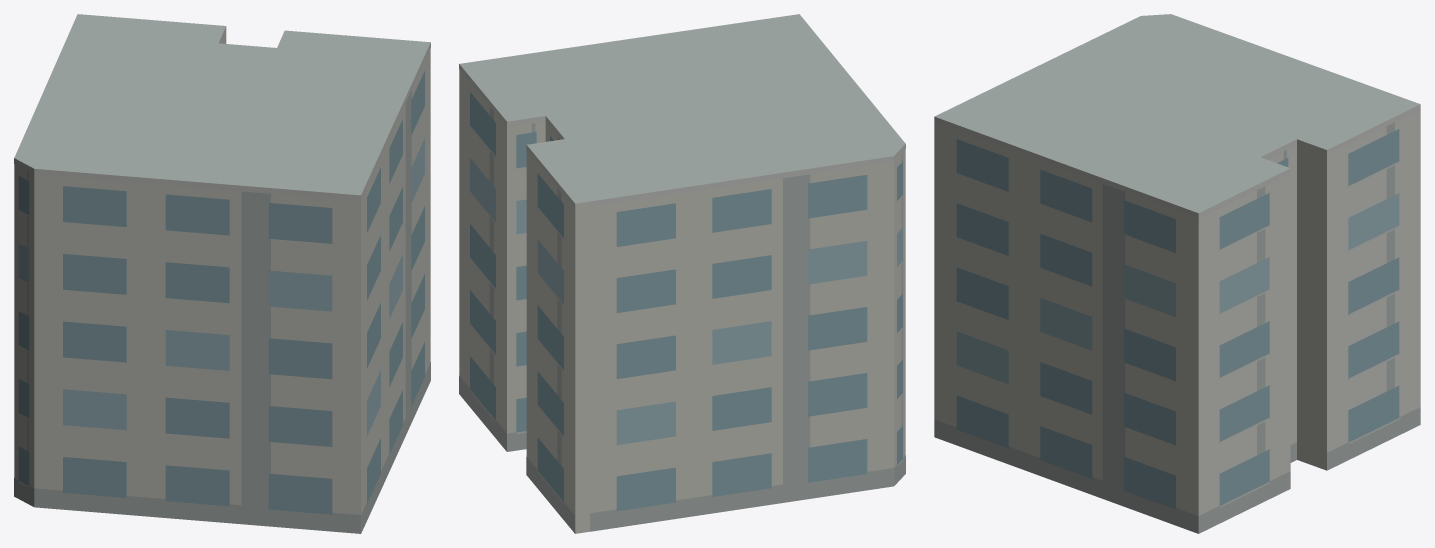
File: survey-upis-32949252.glb
3 renders of one model, left to right at view 1: azimuth 30°, elevation 25°; view 2: azimuth 150°, elevation 25°; view 3: azimuth 270°, elevation 25°, orthographic. The views are drawn at different scales.
Visible parts, largest first — view 1: survey-upis-32949252.tmp; view 2: survey-upis-32949252.tmp; view 3: survey-upis-32949252.tmp.
Boxes of the visible parts, x1,y1,x2,y2 form: survey-upis-32949252.tmp: [14, 14, 430, 533]; survey-upis-32949252.tmp: [459, 14, 905, 533]; survey-upis-32949252.tmp: [934, 14, 1420, 533].
Size of the model in its own units: 18.93 by 14.2 by 19.52.
